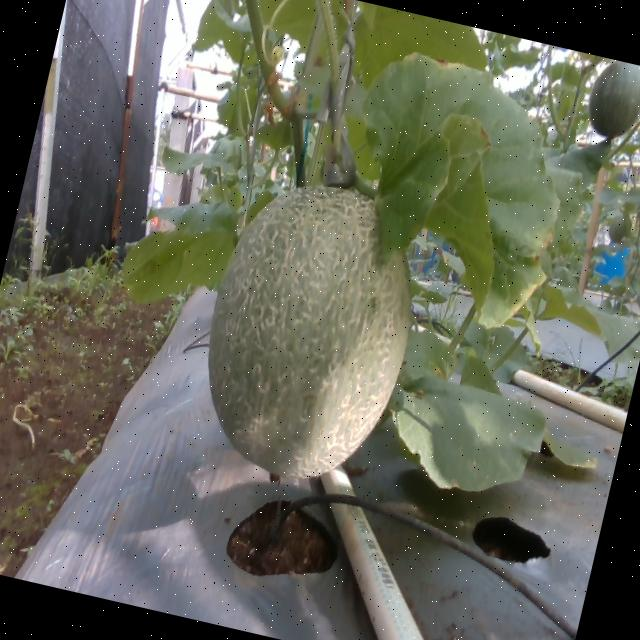melon: (209, 186, 411, 476)
